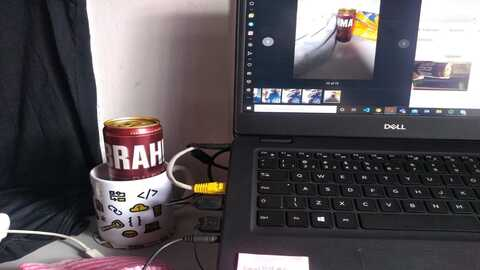duplo_malte: (99, 118, 167, 188)
